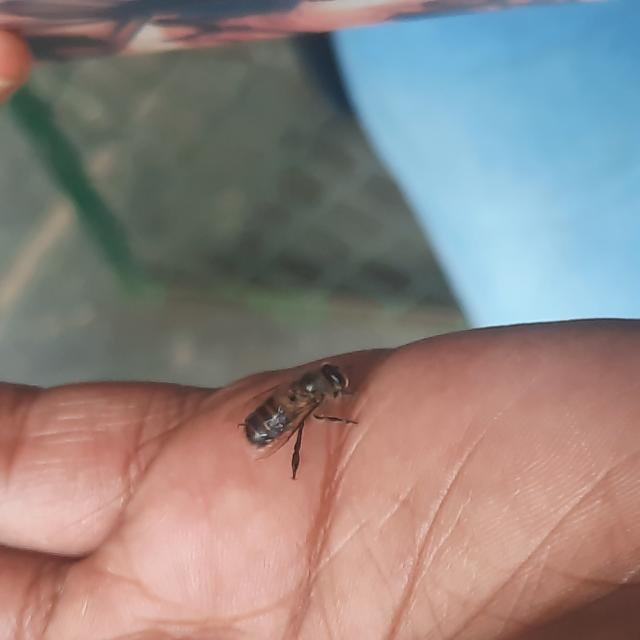honeybee: (242, 366, 358, 456)
